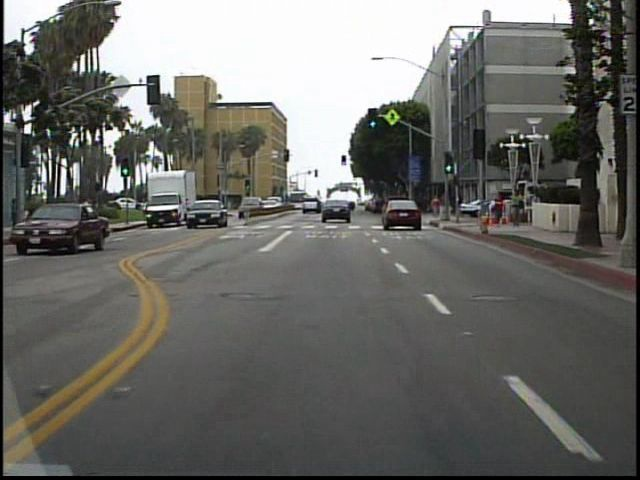person: (77, 194, 95, 237), (427, 194, 442, 219)
